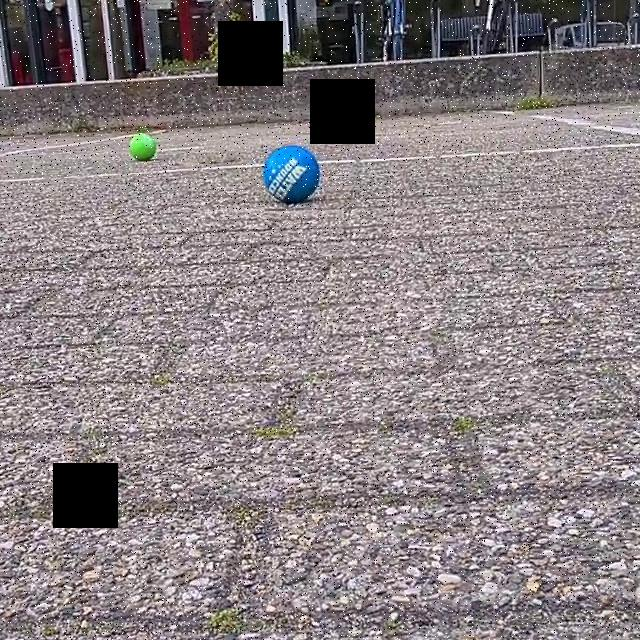ball: (128, 132, 158, 163), (332, 110, 353, 130)
